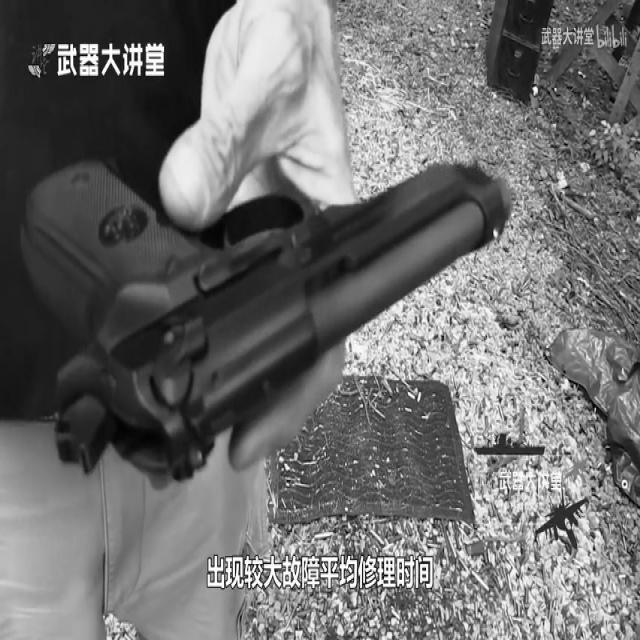Hand-Gun: (33, 82, 516, 480)
